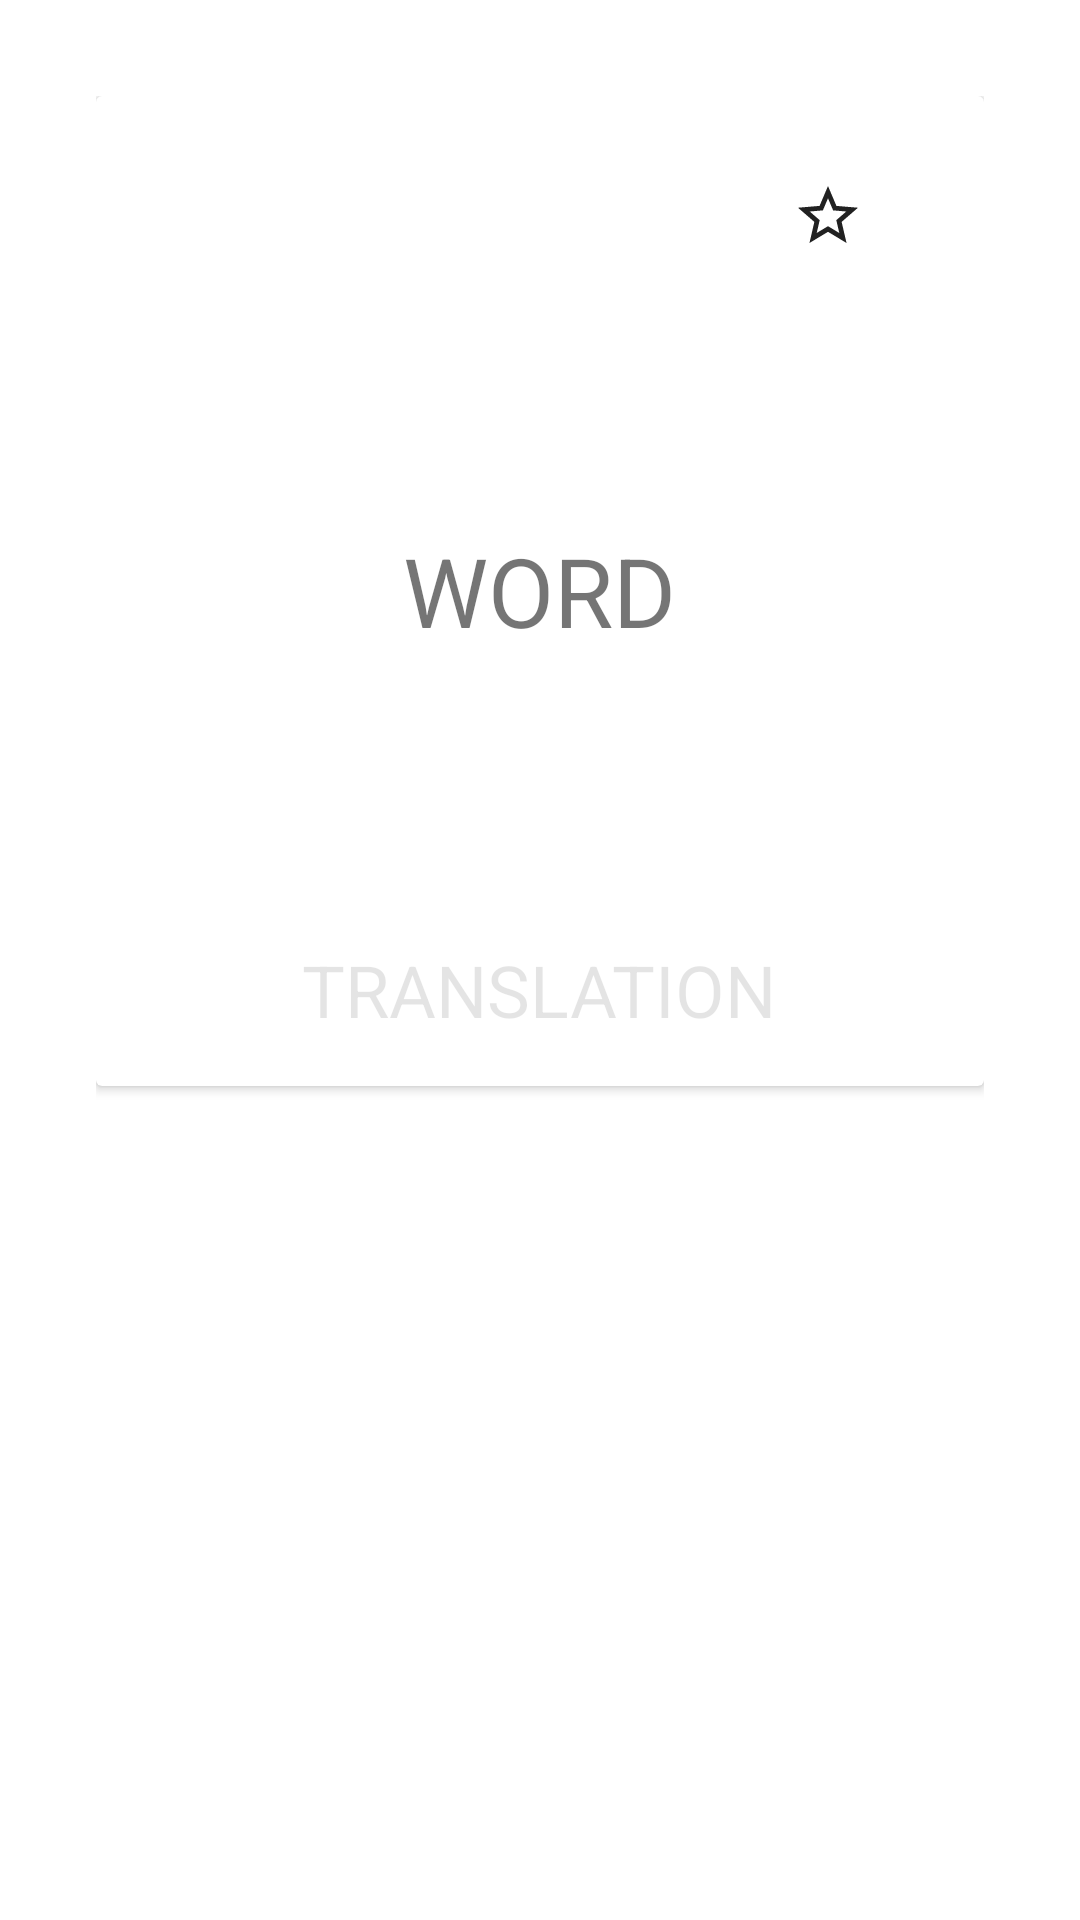

Screen size 1080x1920. Icon name, then its box in pixels as bbox=(x1, y1, x2, y2):
star: bbox=(798, 186, 858, 243)
